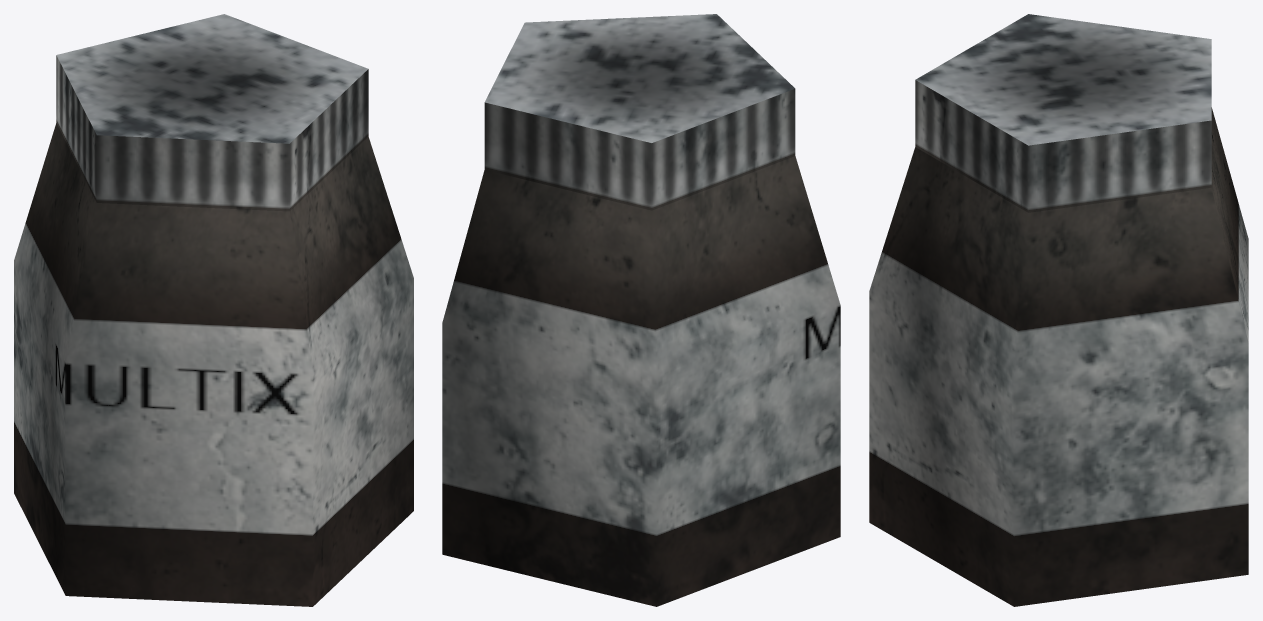
File: medicine_small_C.fbx
3 renders of one model, left to right at view 1: azimuth 30°, elevation 25°; view 2: azimuth 150°, elevation 25°; view 3: azimuth 270°, elevation 25°, orthographic.
Parts seen in each view (by area): view 1: medicine_small_C; view 2: medicine_small_C; view 3: medicine_small_C.
Boxes of the visible parts, x1=… form: medicine_small_C: x1=14, y1=14, x2=413, y2=606; medicine_small_C: x1=442, y1=14, x2=840, y2=606; medicine_small_C: x1=869, y1=14, x2=1248, y2=606.
Bounding box in the file's own units: 8.57 × 10.49 × 8.15.
